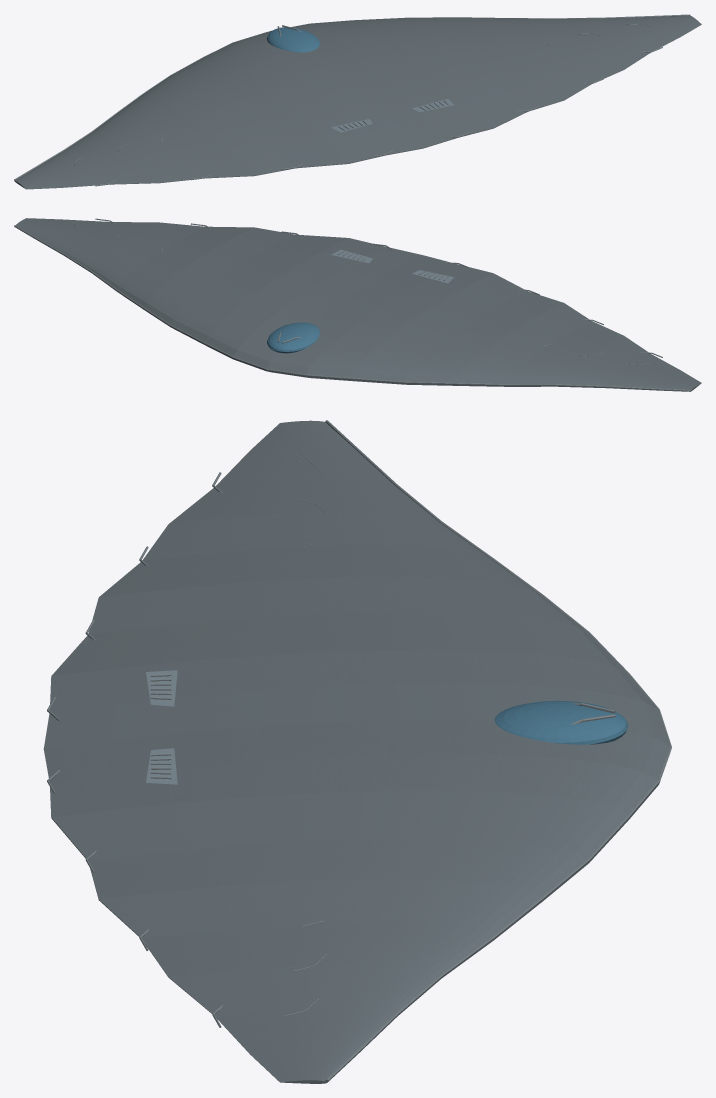
The model's file is b2_spirit.glb.
3 views of the same model, one above another, from view 1: azimuth 30°, elevation 25°; view 2: azimuth 150°, elevation 25°; view 3: azimuth 270°, elevation 25° (orthographic). The views are drawn at different scales.
Visible parts, largest first — view 1: surface_black, surface_blacklight, surface_glass, surface_stealthdark; view 2: surface_black, surface_blacklight, surface_glass, surface_stealthdark; view 3: surface_black, surface_blacklight, surface_glass, surface_stealthdark.
Part boxes in pixels (box(x1,y1,x2,y2)): surface_black: box(14, 15, 701, 189); surface_blacklight: box(14, 14, 690, 186); surface_glass: box(267, 27, 319, 52); surface_stealthdark: box(331, 99, 453, 132); surface_black: box(15, 218, 701, 391); surface_blacklight: box(14, 218, 690, 391); surface_glass: box(267, 322, 319, 353); surface_stealthdark: box(331, 249, 453, 283); surface_black: box(43, 420, 669, 1083); surface_blacklight: box(47, 420, 671, 1081); surface_glass: box(494, 700, 628, 744); surface_stealthdark: box(146, 670, 177, 784).
Bounding box in the file's own units: 52.44 × 3.76 × 21.1.
10 materials, 10 textured.
